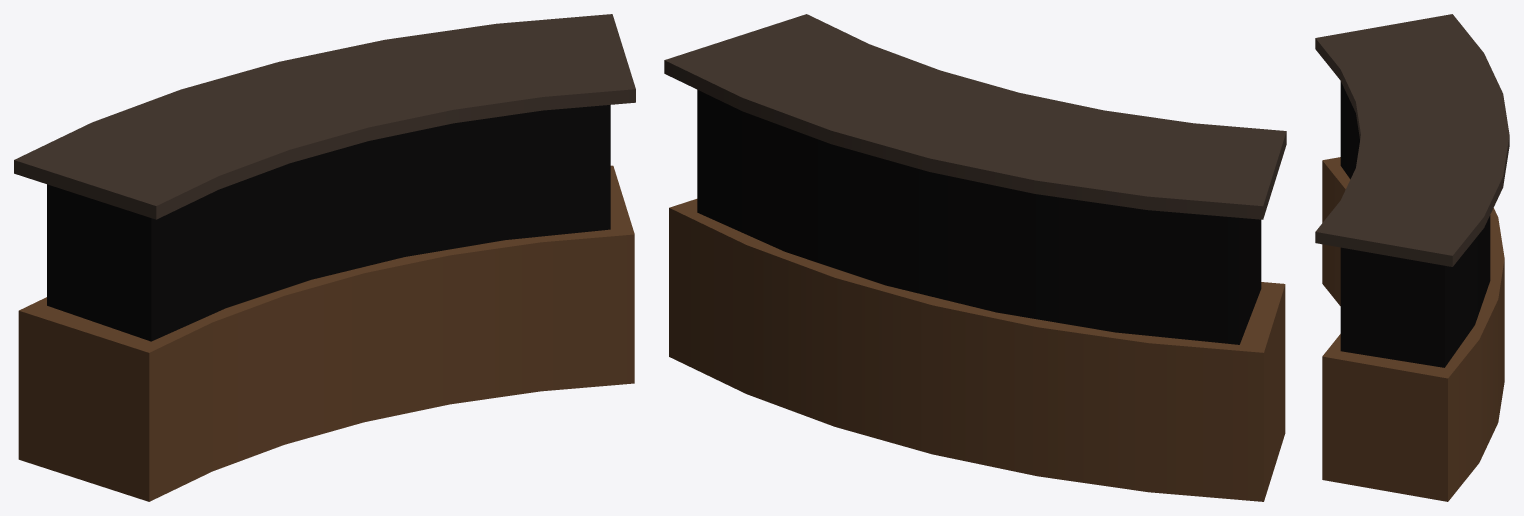
The model's file is curve_display.glb.
3 renders of one model, left to right at view 1: azimuth 30°, elevation 25°; view 2: azimuth 150°, elevation 25°; view 3: azimuth 270°, elevation 25°, orthographic. The views are drawn at different scales.
Visible parts, largest first — view 1: sw5e_int_curve_display; view 2: sw5e_int_curve_display; view 3: sw5e_int_curve_display.
Boxes of the visible parts, box(x1,y1,x2,y2) form: sw5e_int_curve_display: box(14, 14, 635, 501); sw5e_int_curve_display: box(664, 14, 1286, 501); sw5e_int_curve_display: box(1315, 14, 1509, 501).
Size of the model in its own units: 2.31 by 1.1 by 0.7842.
